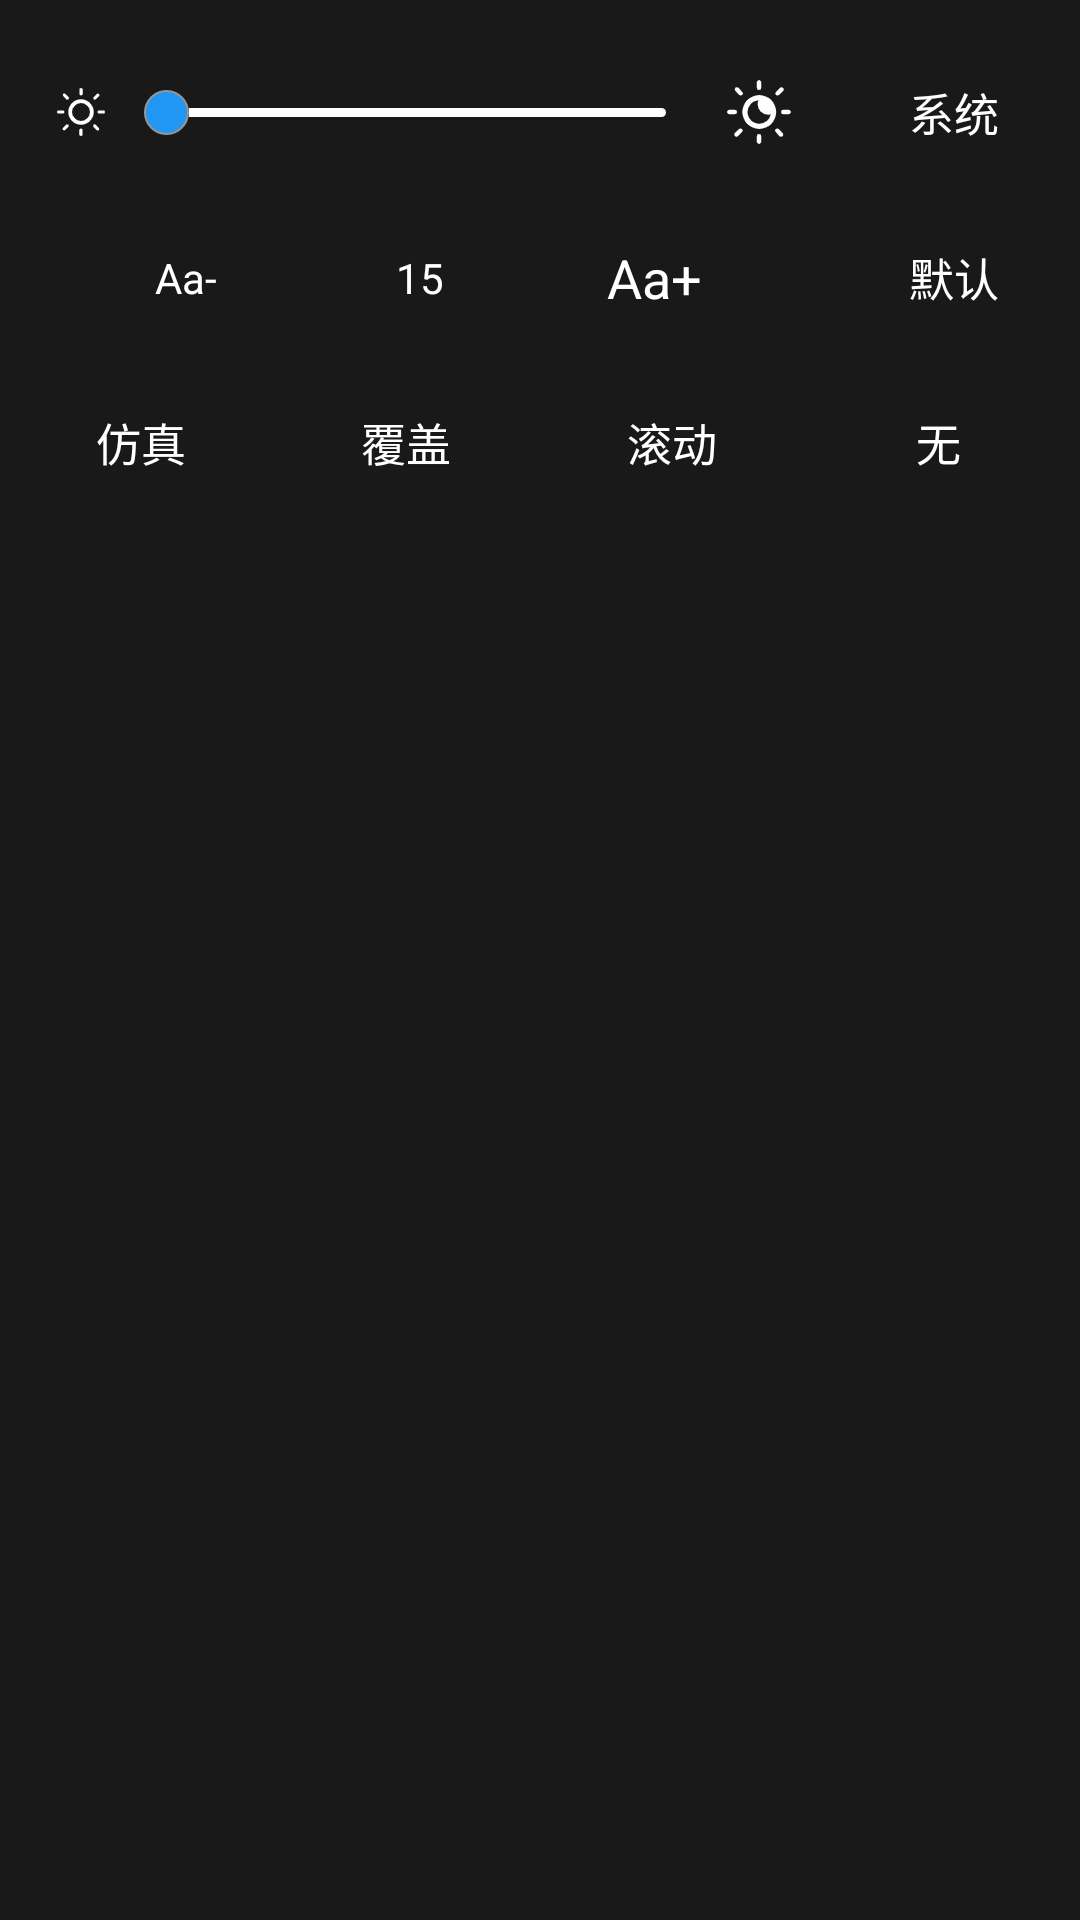

Locate icon controls on the screen. Image size 1080px x 1920px, boxes as (x1, y1, x2, y2).
brightness minus: (57, 88, 105, 136)
brightness plus: (727, 80, 791, 144)
